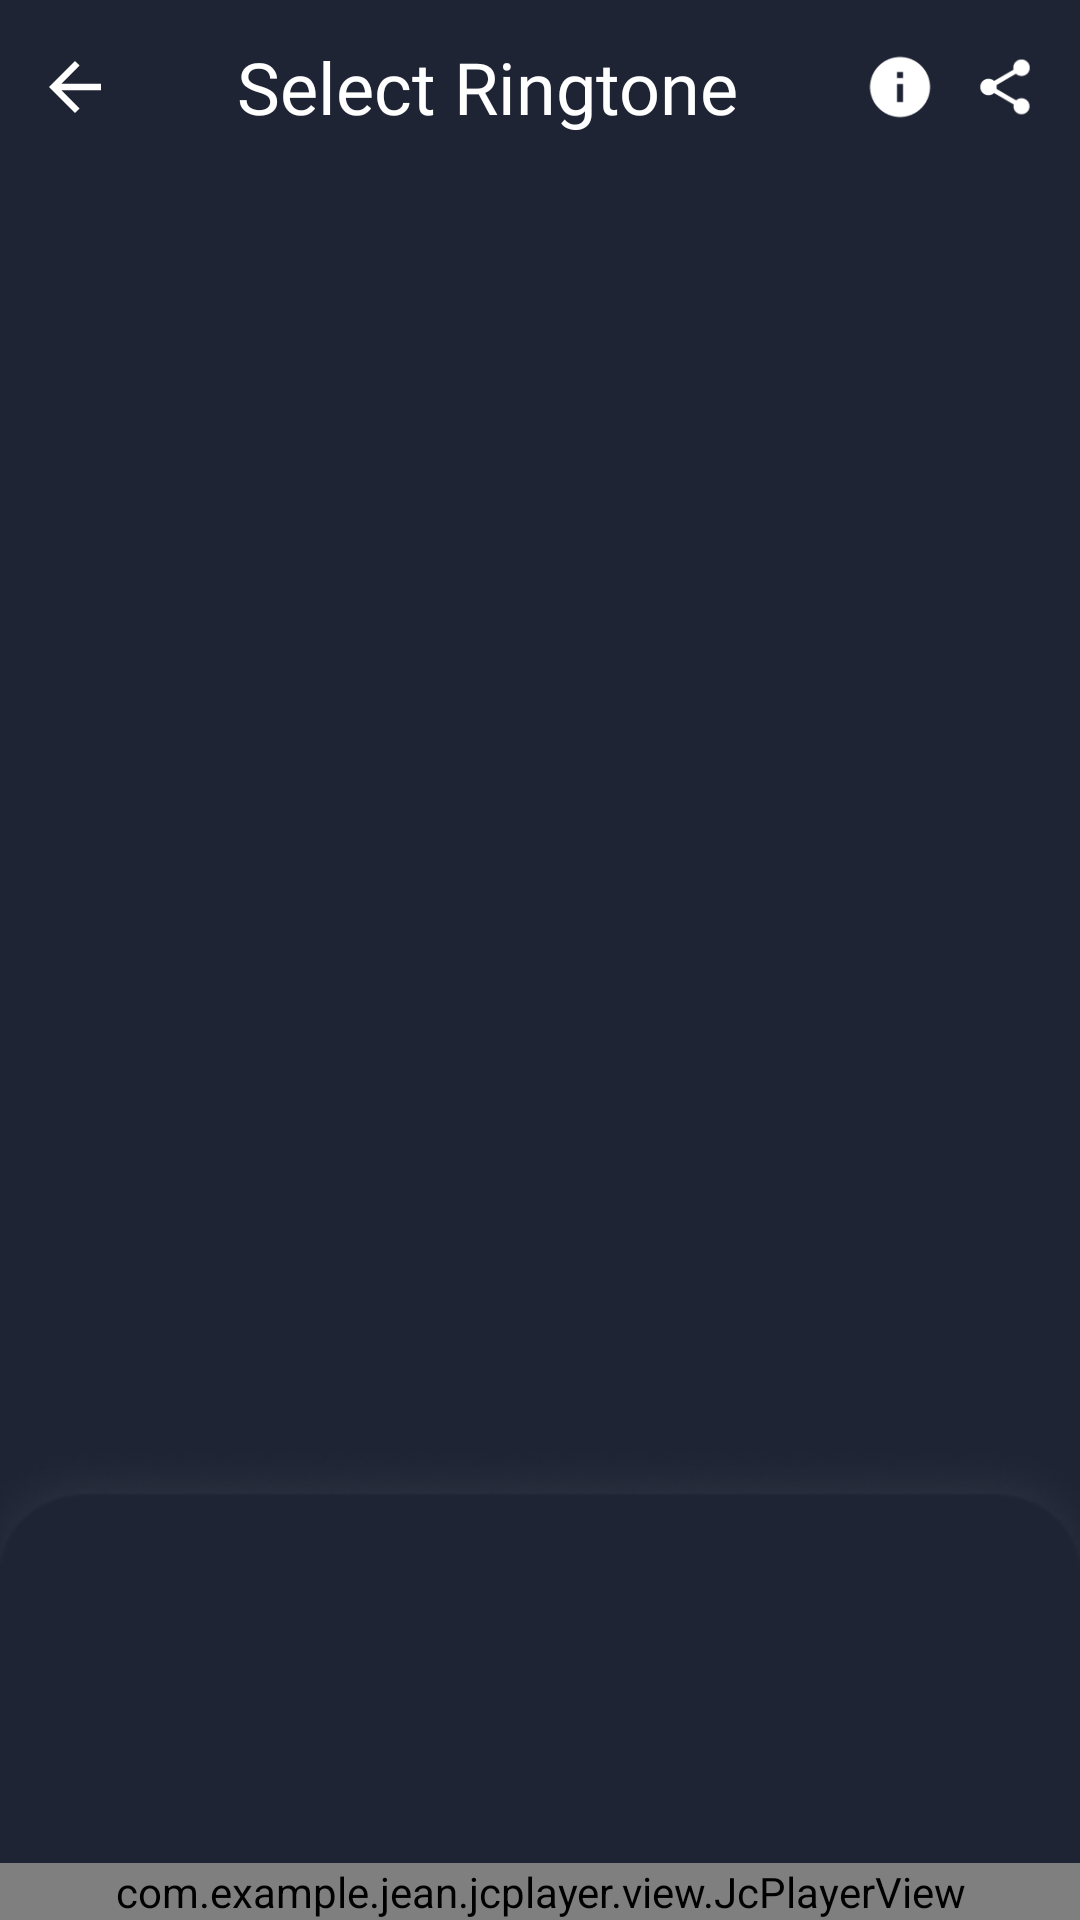

Point at icon controls on the screen. Image size 1080 x 1920, points as (x=x, y=y).
back: (x=75, y=87)
share: (x=1005, y=87)
